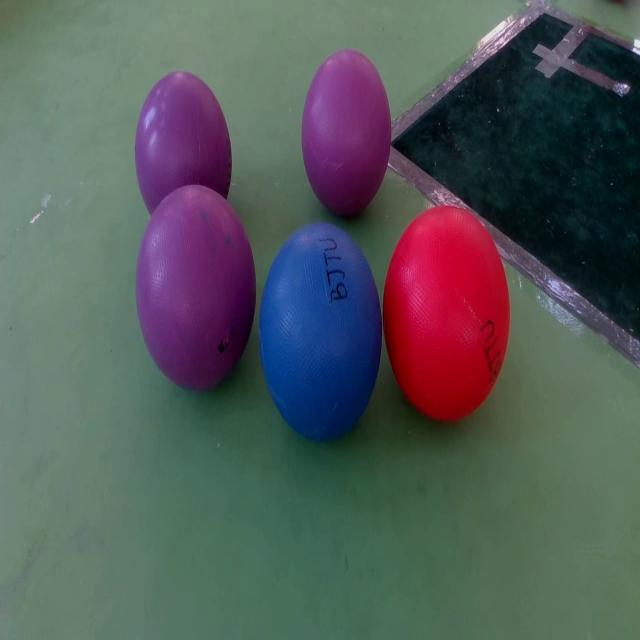blue: (259, 221, 383, 439)
invalid: (136, 184, 254, 394), (130, 67, 232, 218), (304, 50, 390, 215)
red: (385, 207, 508, 424)
